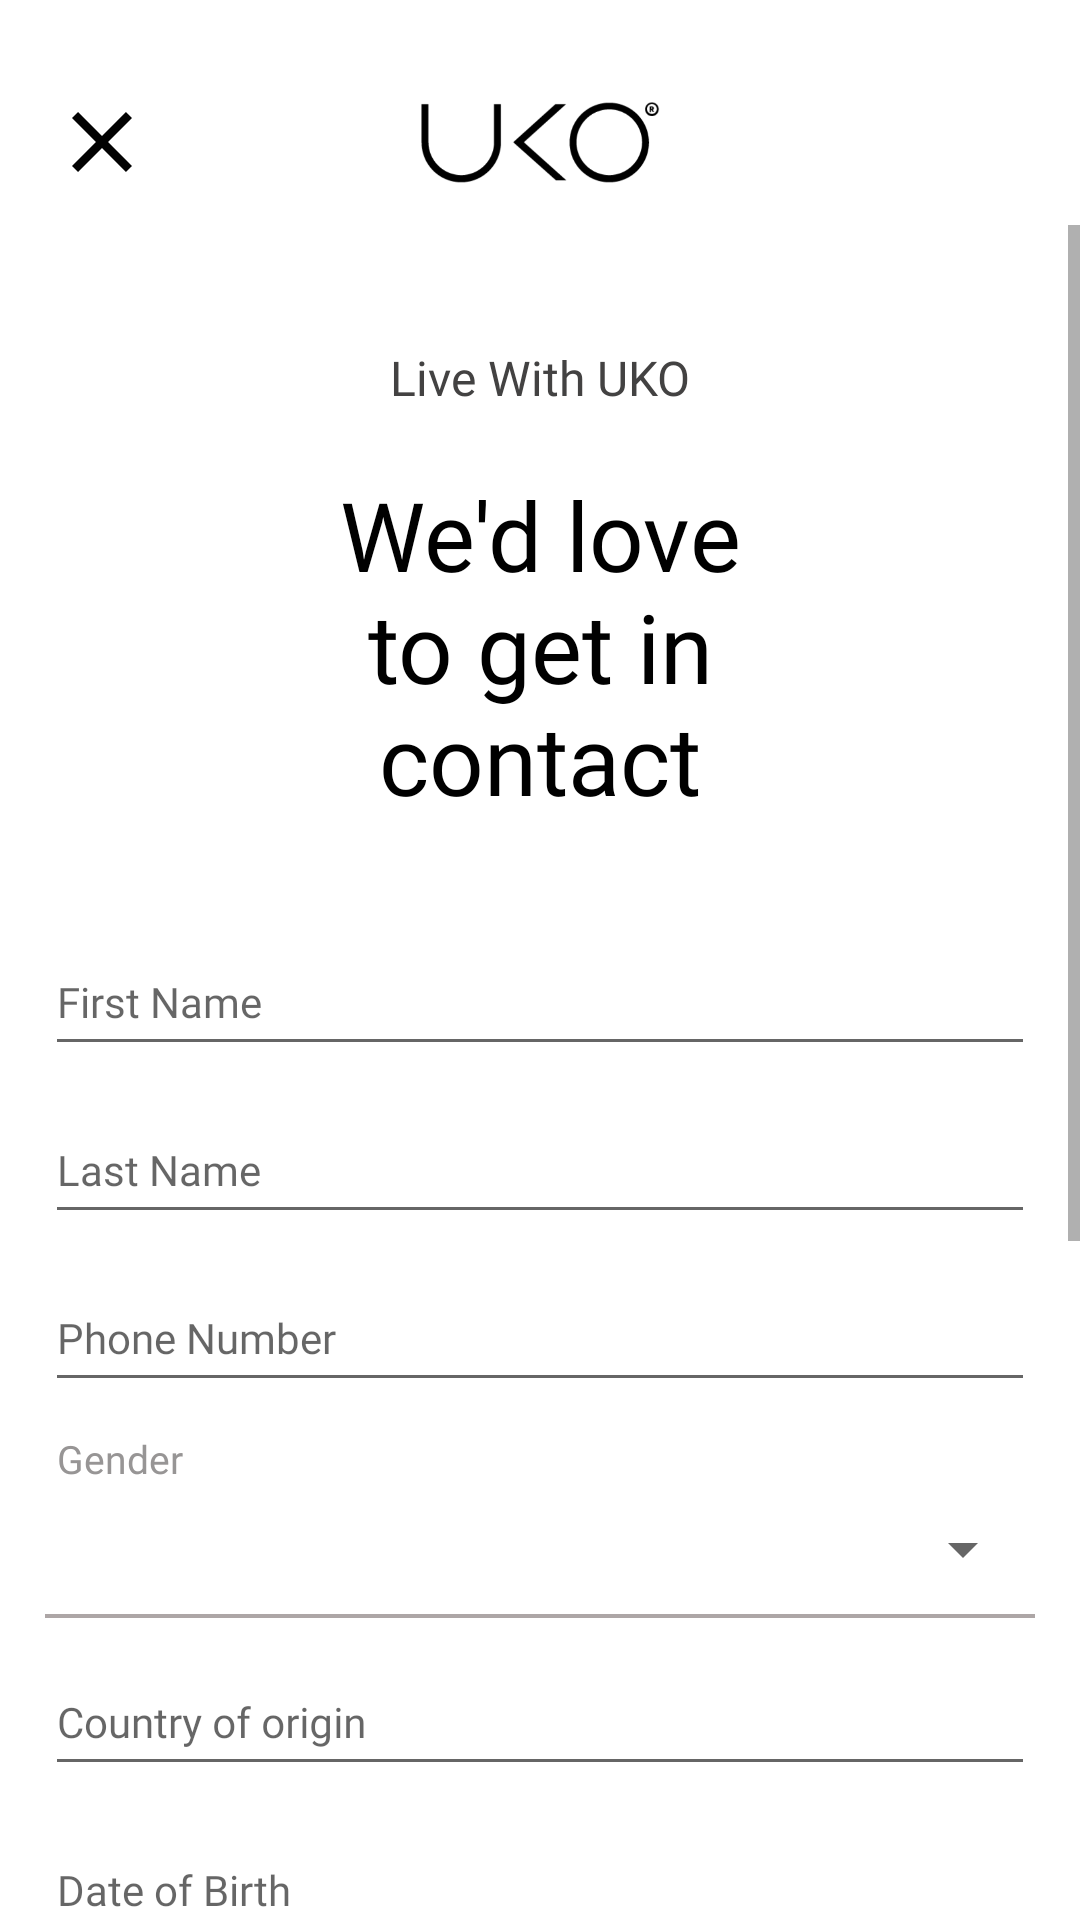

Point at icon controls on the screen. Image size 1080w x 1920h, points as (x,y).
close: (102,142)
